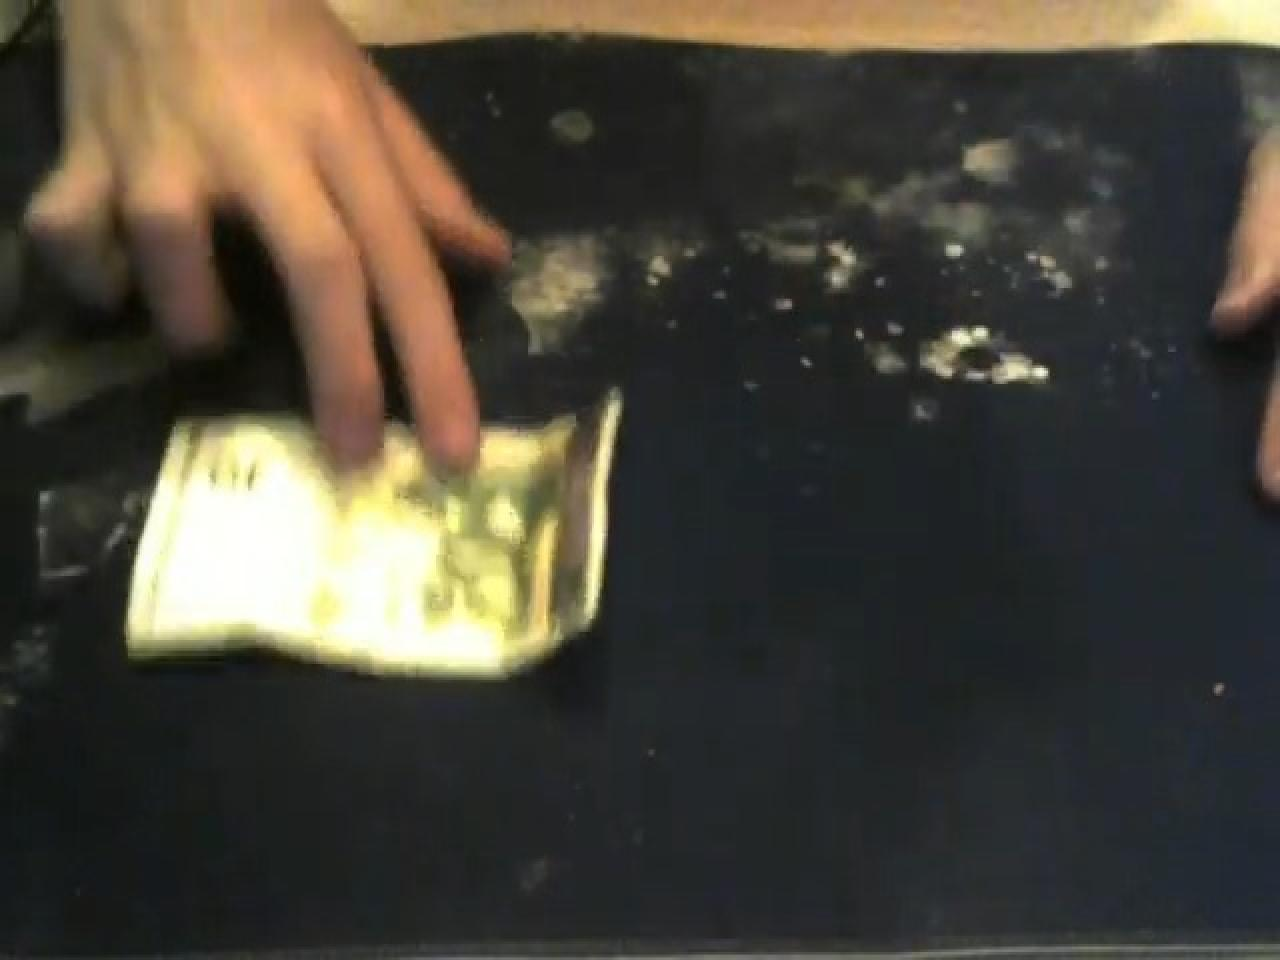10leva: (120, 376, 624, 683)
